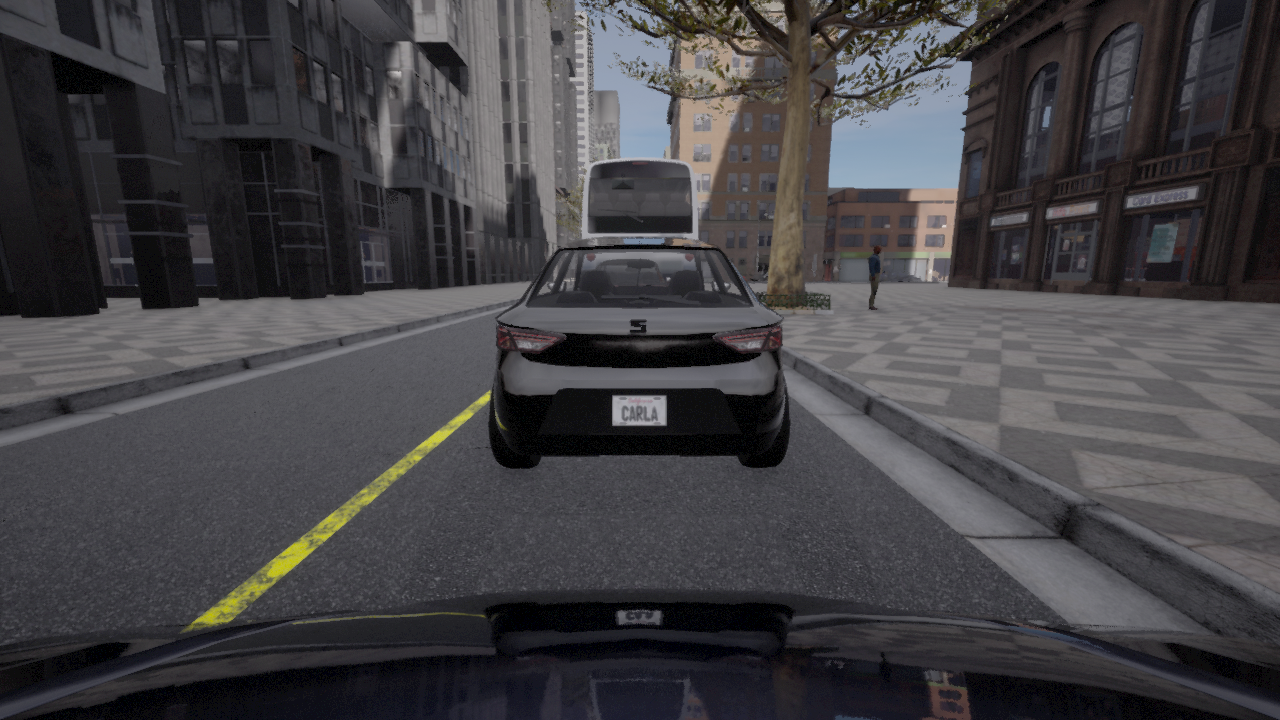cyclist: (0, 588, 1279, 719), (489, 237, 789, 467), (582, 157, 698, 239), (879, 271, 922, 282), (749, 270, 768, 282)
pedestrian: (868, 245, 880, 309)
